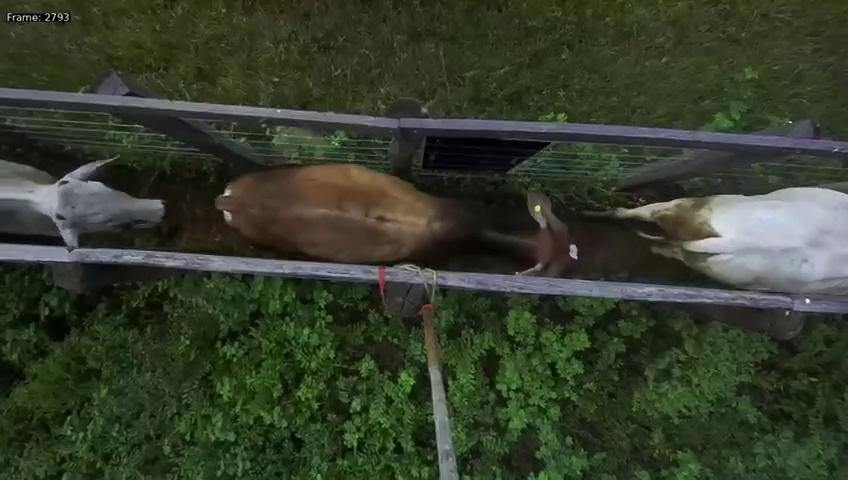cattle: (172, 153, 586, 293)
